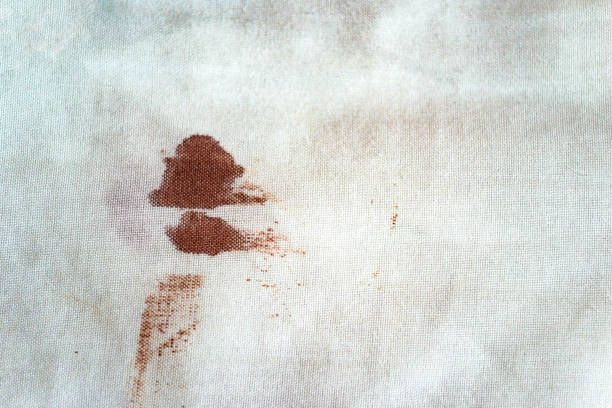blood: (124, 127, 401, 408)
